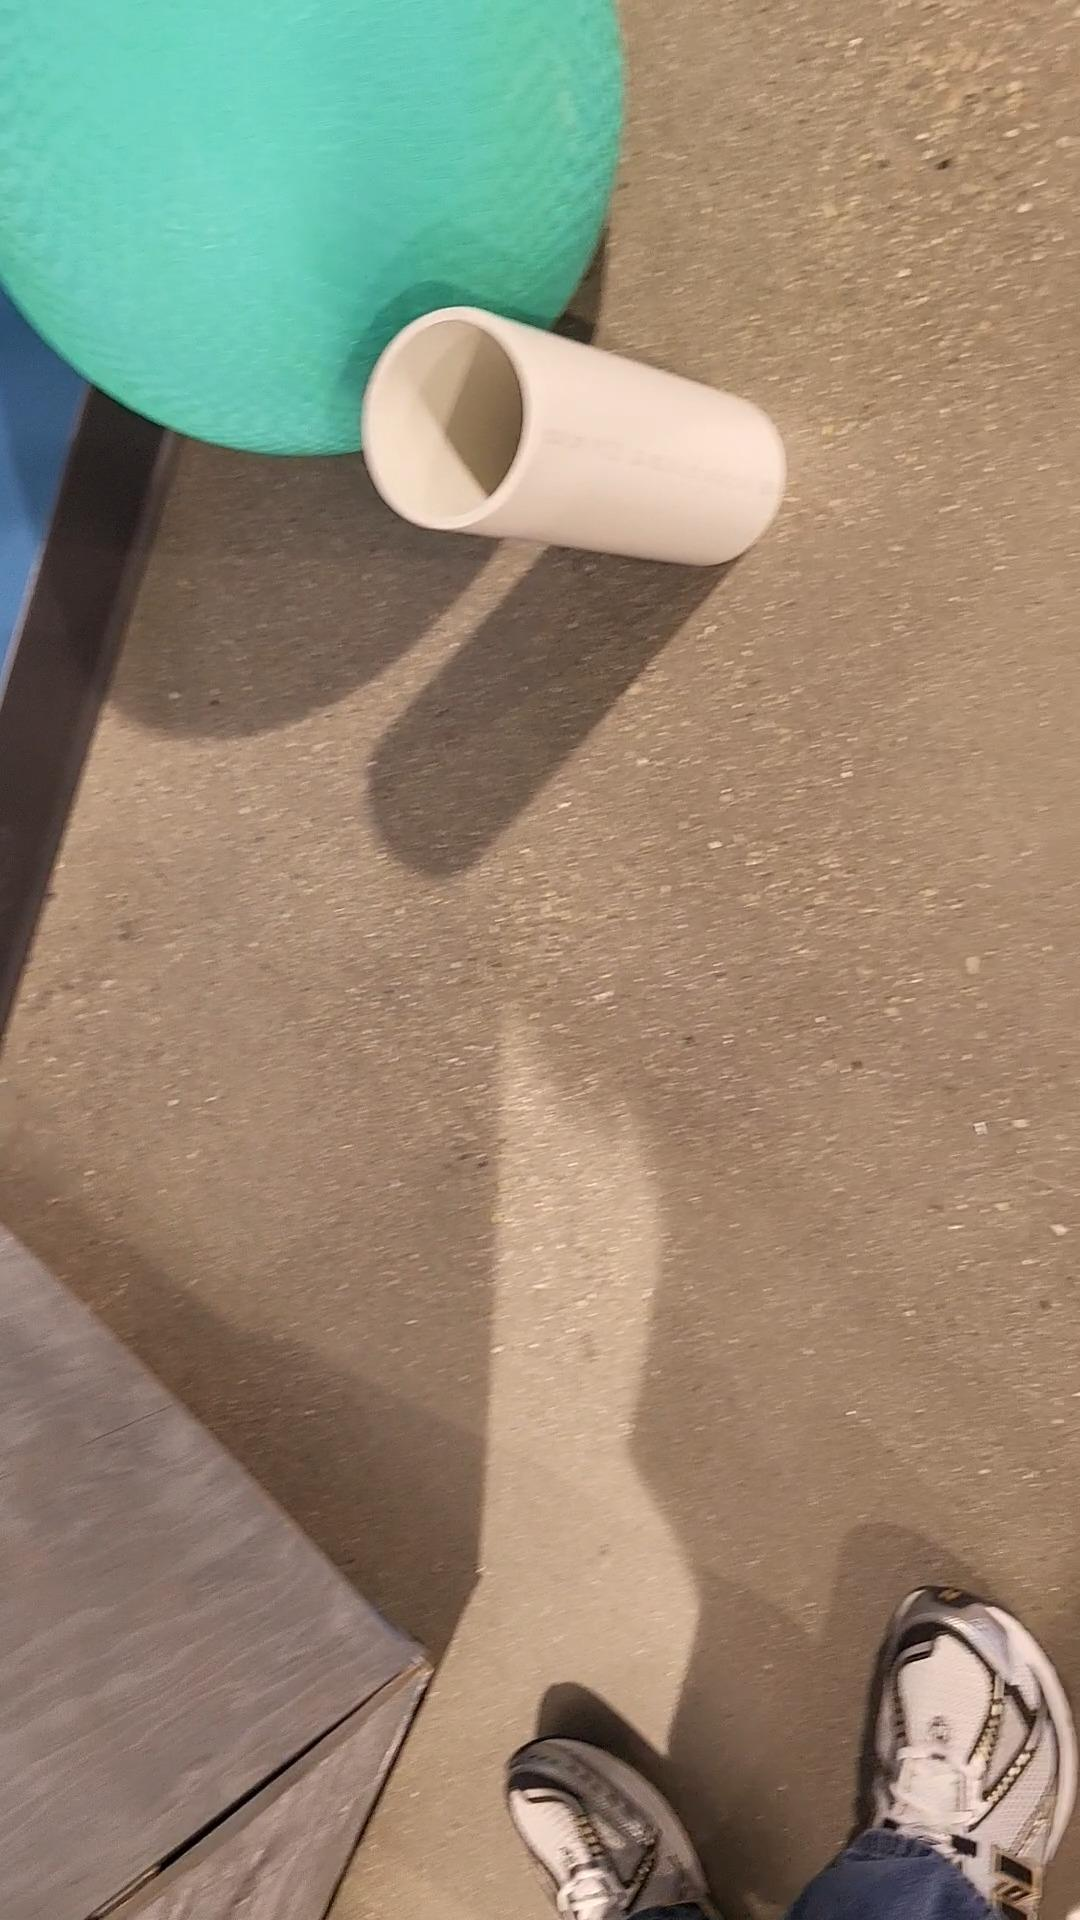algae: (0, 0, 617, 452)
coral: (365, 307, 787, 567)
